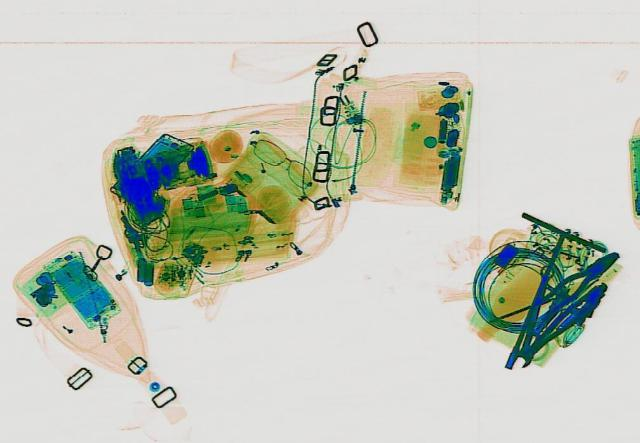Pliers: (512, 246, 628, 329)
Wrench: (508, 264, 560, 366)
